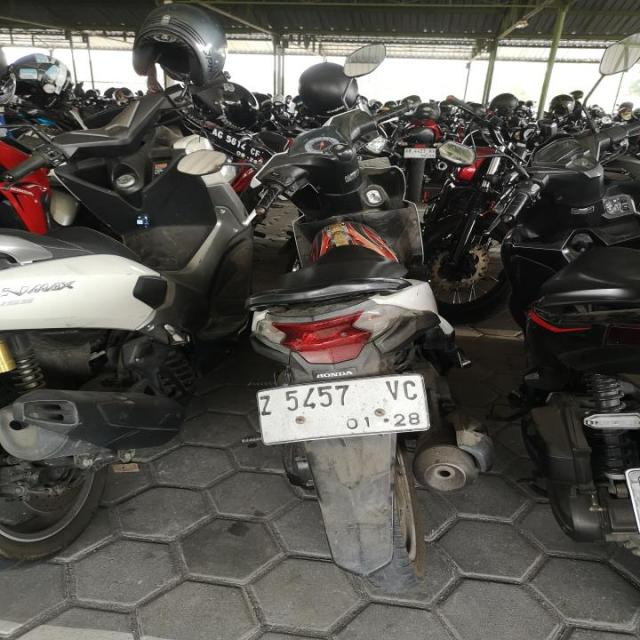License Plate: (243, 373, 433, 438), (209, 126, 262, 166), (404, 147, 436, 159)
